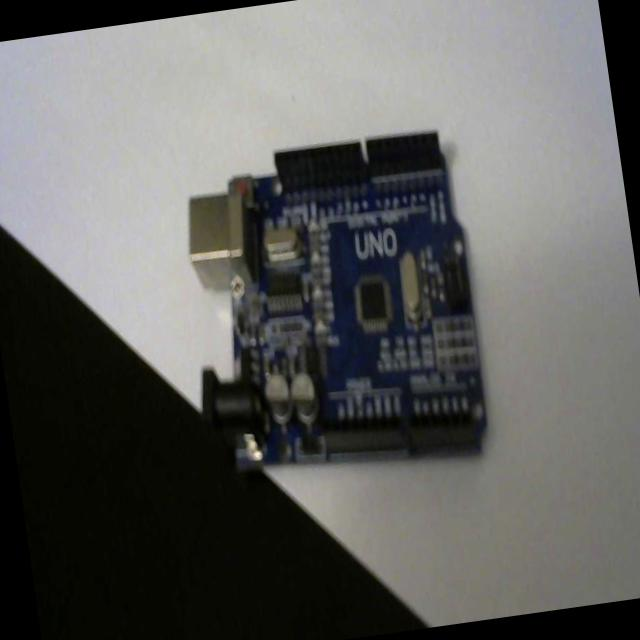arduino: (160, 117, 502, 496)
